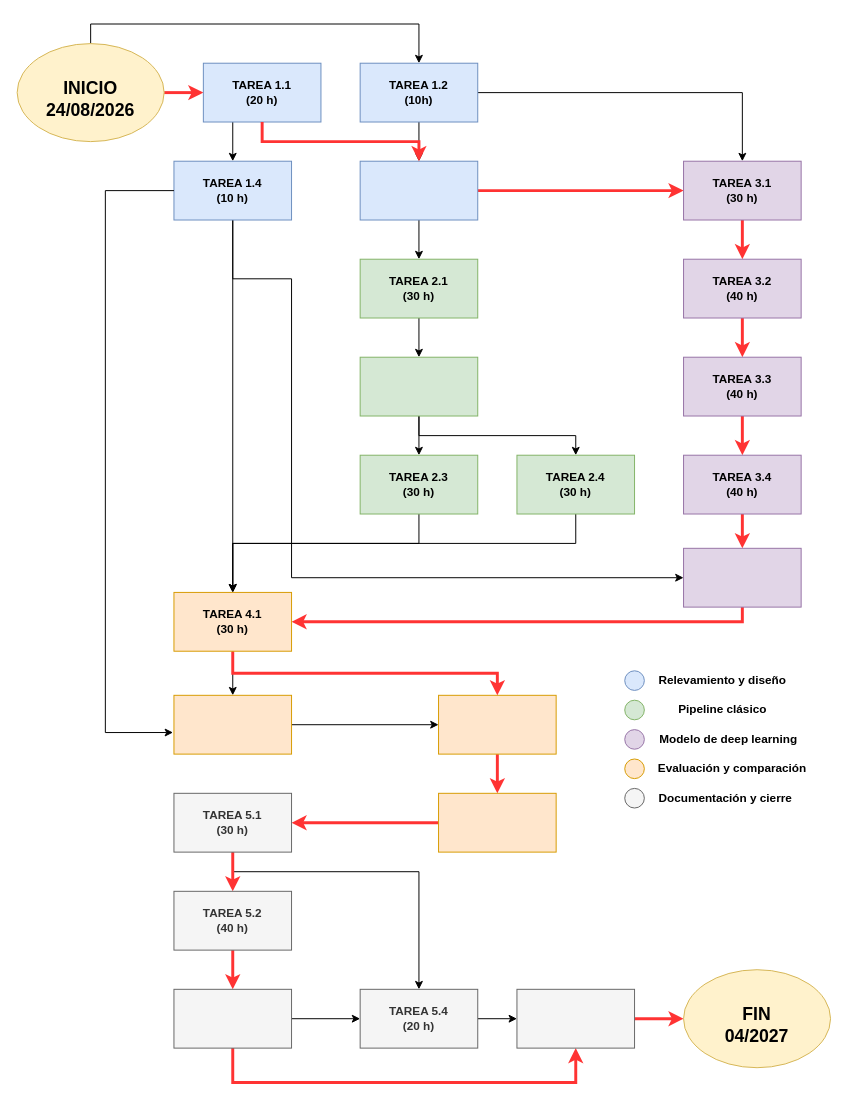
Image size: 848x1108. Some labels were removed from this diagram. The centre of each missing label's shape, as x and y in pixels:
"TAREA 1.3 (20 h)" goes at [418,190].
"TAREA 2.2 (30 h)" goes at [418,386].
"TAREA 3.5 (30 h)" goes at [742,577].
"TAREA 4.2 (20 h)" goes at [232,724].
"TAREA 4.3 (30 h)" goes at [497,724].
"TAREA 4.4 (20 h)" goes at [497,822].
"TAREA 5.3 (30 h)" goes at [232,1018].
"TAREA 5.5 (20 h)" goes at [575,1018].
